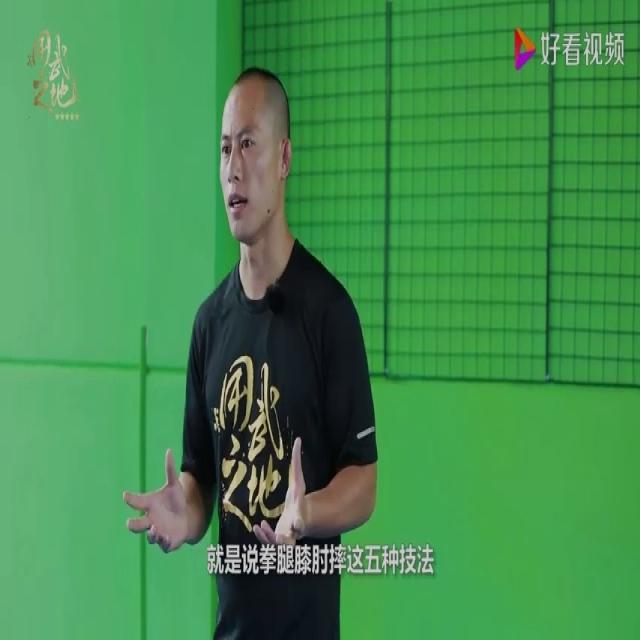non-fight: (128, 57, 384, 636)
